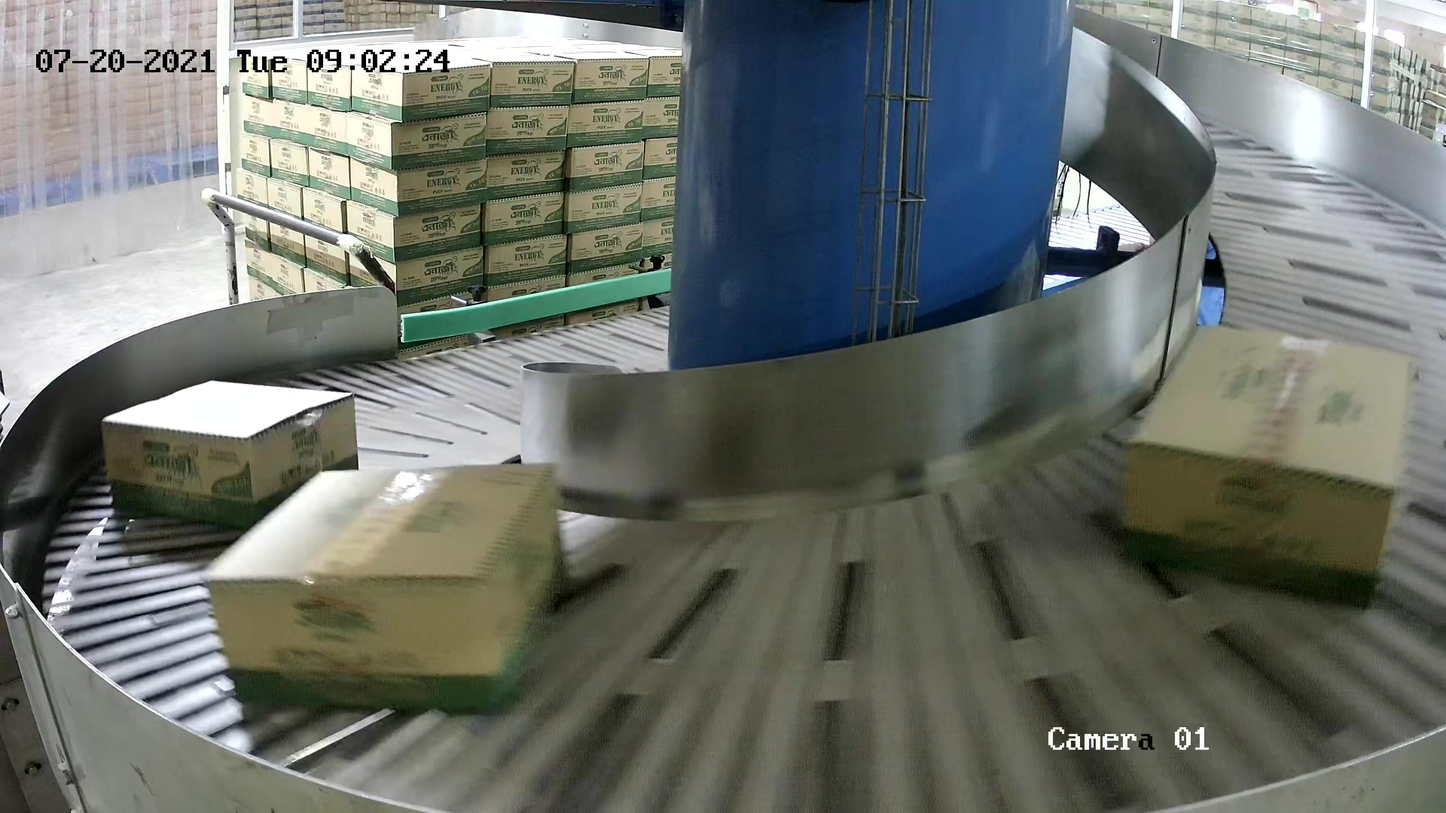Box: (199, 459, 570, 714), (1117, 321, 1415, 614), (99, 377, 360, 532)
